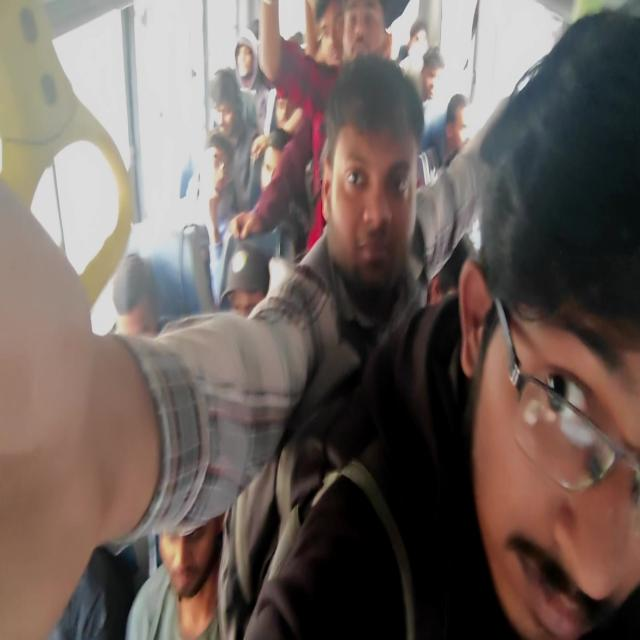person: (343, 81, 411, 316), (143, 470, 233, 615), (92, 262, 166, 388), (225, 240, 270, 354), (254, 131, 296, 219), (342, 0, 388, 73), (318, 7, 360, 82), (201, 138, 237, 214), (207, 73, 239, 130), (424, 55, 452, 116), (249, 22, 274, 66), (276, 82, 294, 138), (408, 27, 432, 68), (238, 41, 262, 82), (460, 109, 474, 164)
